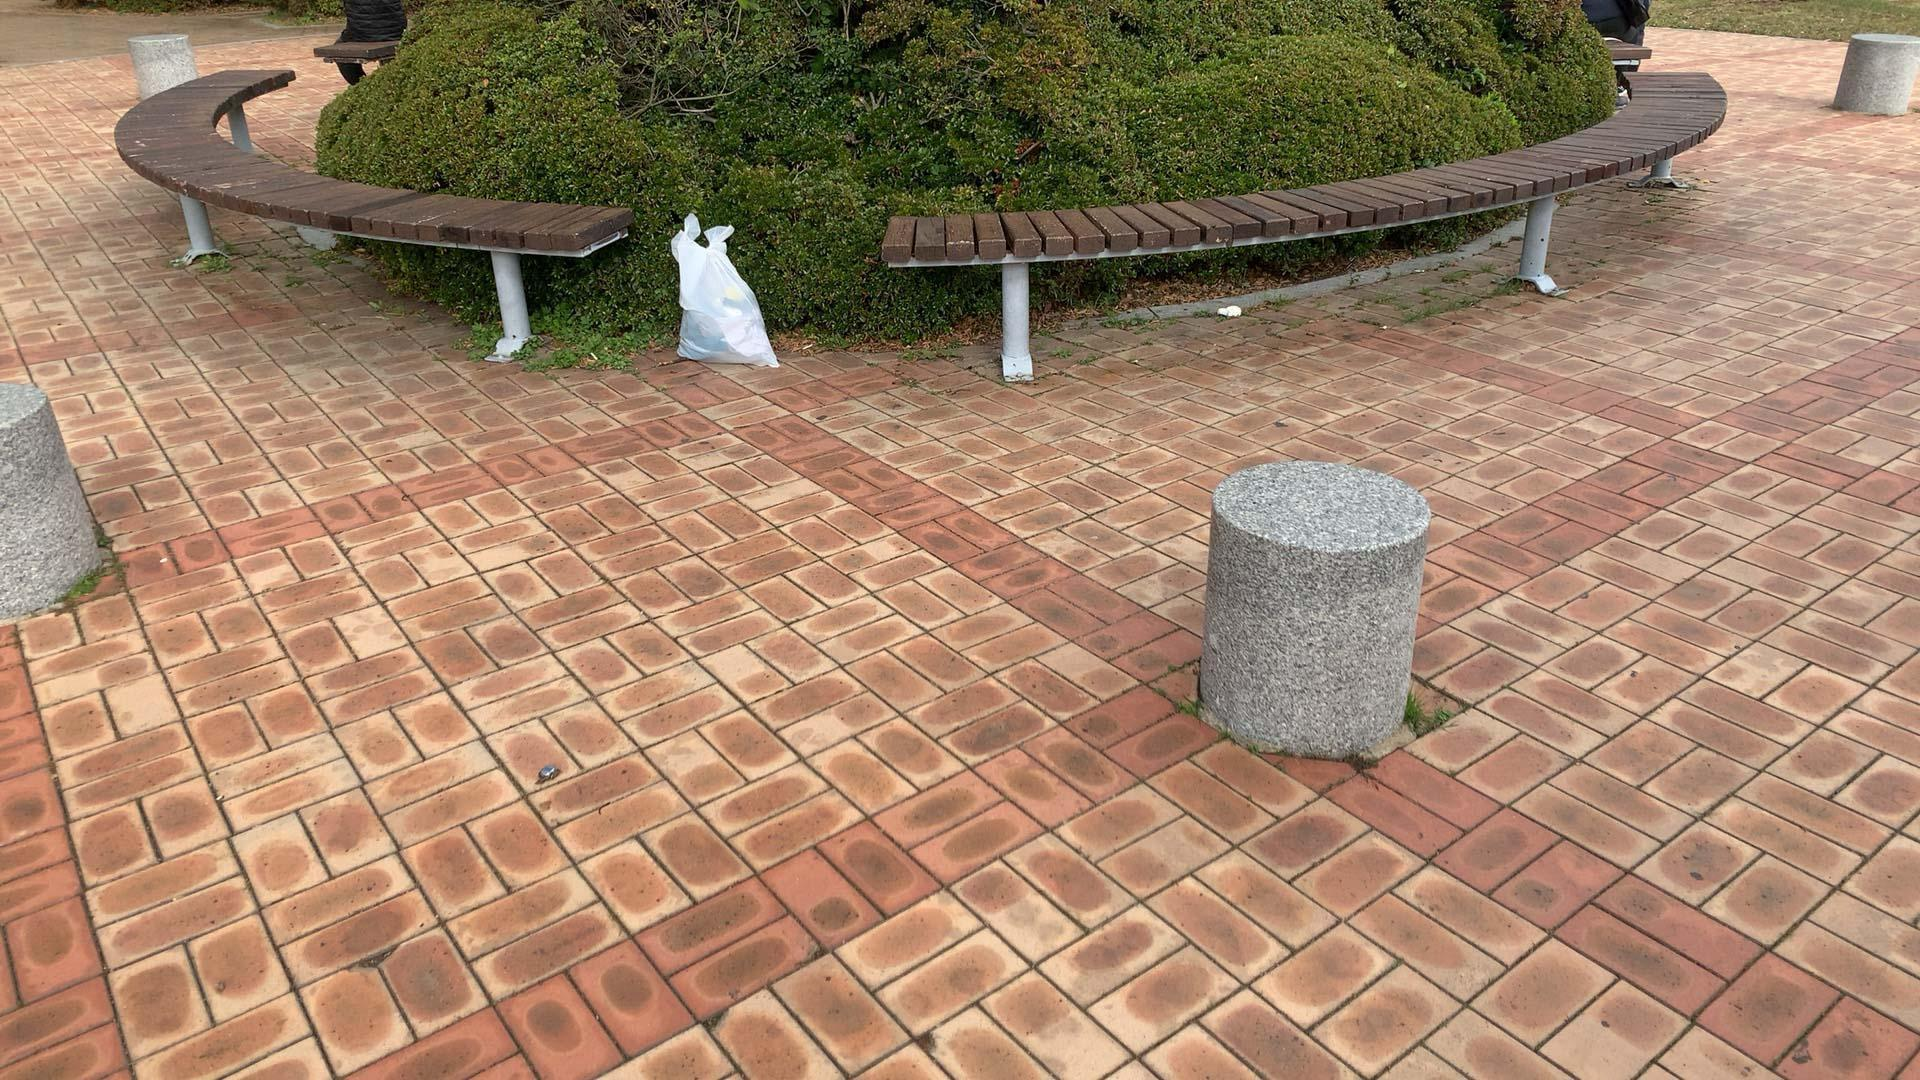white_bag: (667, 206, 786, 375)
